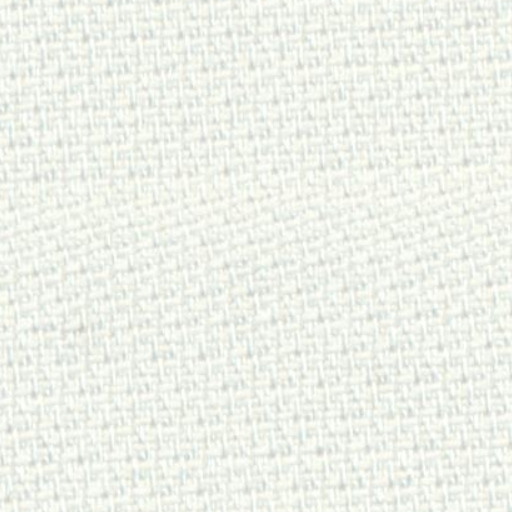TuoSha: (17, 150, 488, 363)
